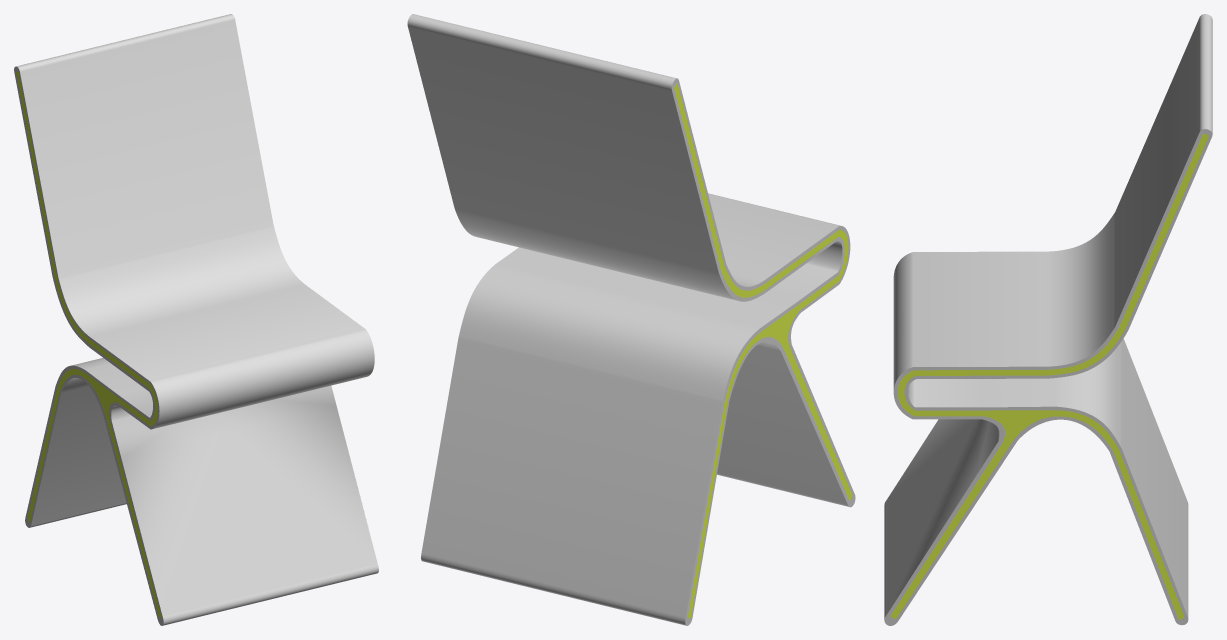
The model's file is FuturismChair.glb.
3 renders of one model, left to right at view 1: azimuth 30°, elevation 25°; view 2: azimuth 150°, elevation 25°; view 3: azimuth 270°, elevation 25°, orthographic. The views are drawn at different scales.
Parts seen in each view (by area): view 1: root; view 2: root; view 3: root.
Part boxes in pixels (x1,y1,x2,y2): root: (14, 14, 378, 625); root: (407, 14, 855, 625); root: (884, 14, 1212, 625).
Bounding box in the file's own units: 4.85 × 9.77 × 5.85.
